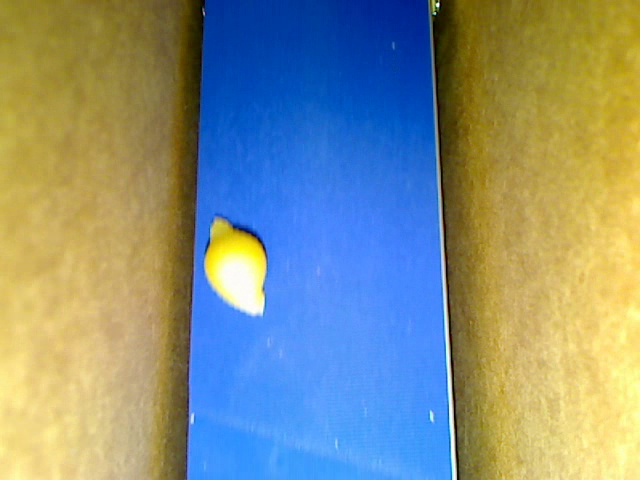shell: (204, 214, 266, 315)
